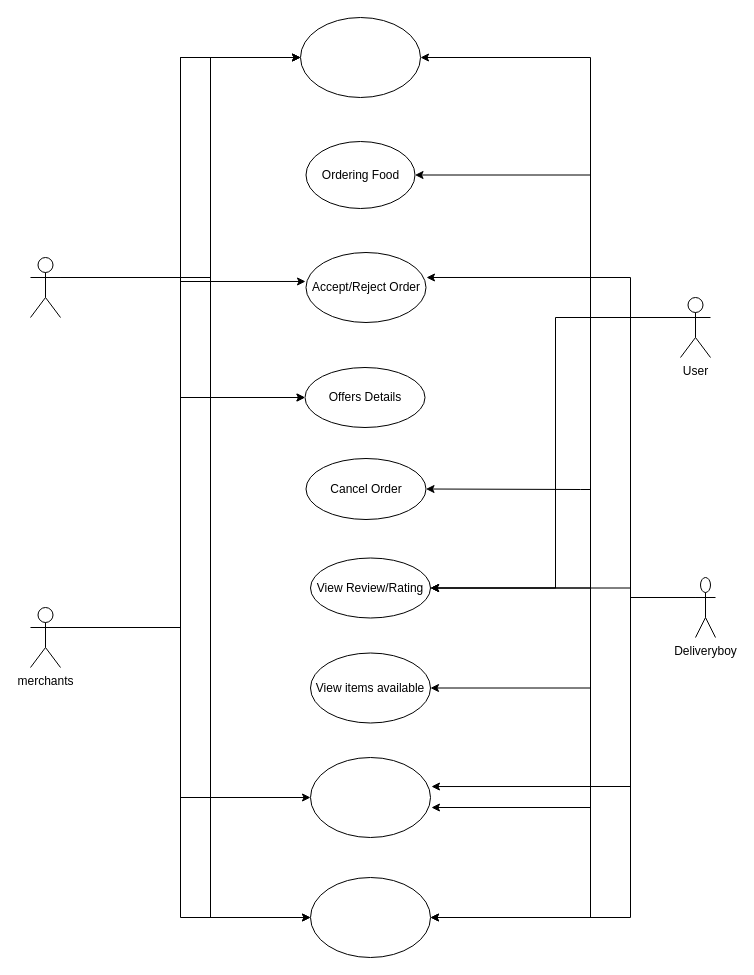
Some shapes in this 754 by 975 pixel diagram are drawn without their labels. Here are the shapes that lost their labels. From the top down, the box of each, then its label:
(300, 16, 420, 98): Sigin Up/Sigin in
(30, 256, 60, 318): Admin
(310, 756, 430, 838): Tracking delivery
(310, 876, 430, 958): LogOut
